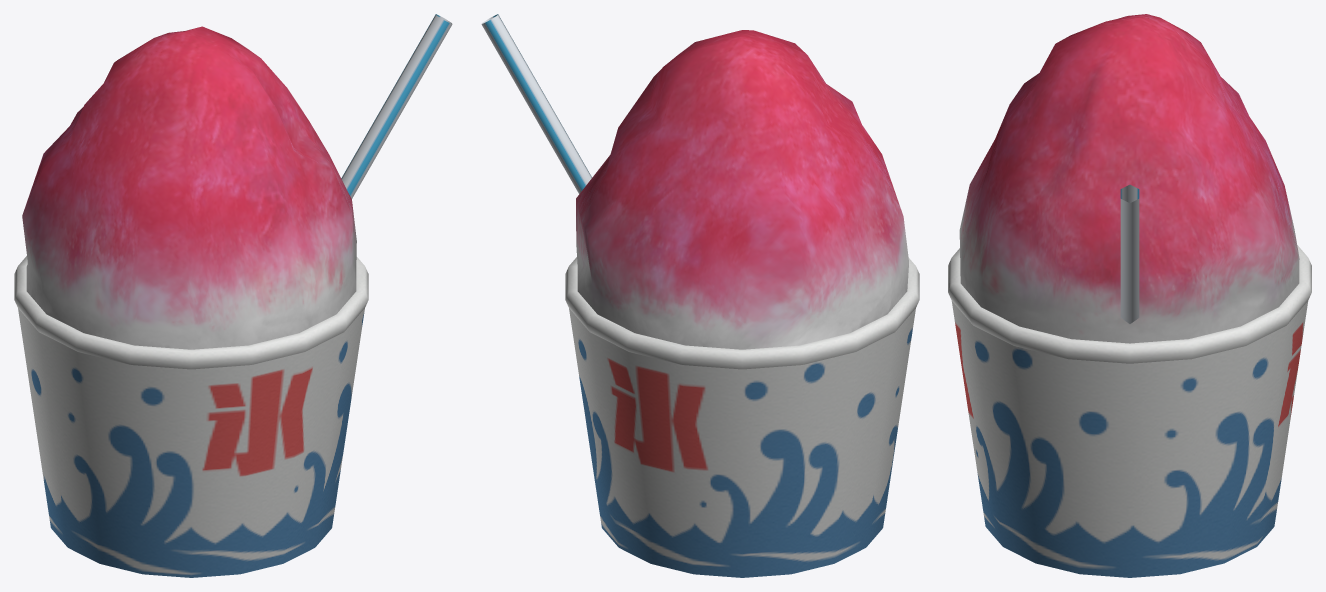
File: ShavedIce01.fbx
The picture shows the model from 3 angles, left to right: view 1: azimuth 30°, elevation 25°; view 2: azimuth 150°, elevation 25°; view 3: azimuth 270°, elevation 25°; orthographic projection. The views are drawn at different scales.
Visible parts, largest first — view 1: ShavedIce01; view 2: ShavedIce01; view 3: ShavedIce01.
Part boxes in pixels (x1,y1,x2,y2): ShavedIce01: (14,14,452,577); ShavedIce01: (481,14,919,577); ShavedIce01: (948,14,1311,577).
Size of the model in its own units: 13.08 by 14.6 by 9.64.
